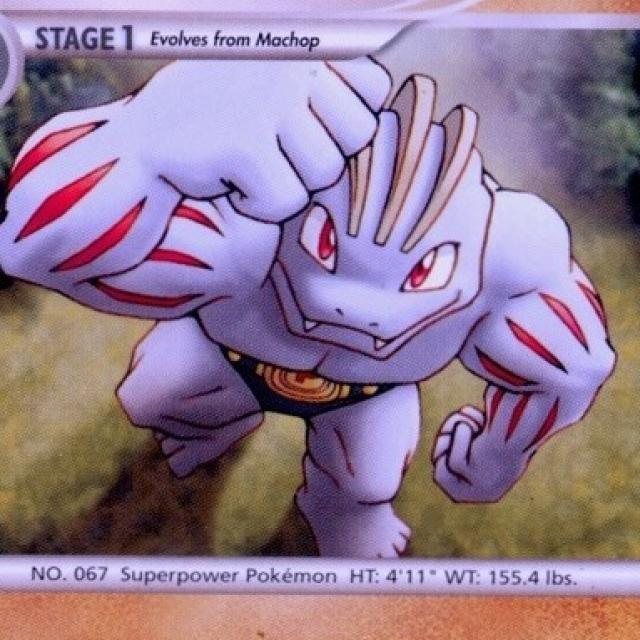Machoke: (95, 54, 574, 545)
